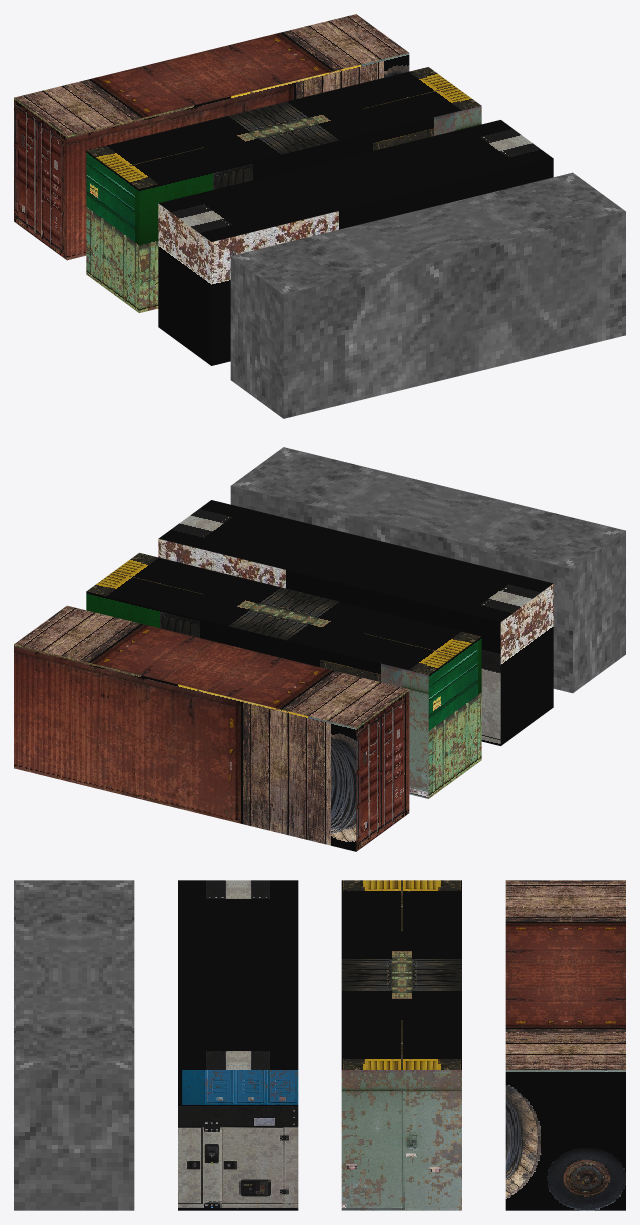
The picture shows the model from 3 angles, top to bottom: view 1: azimuth 30°, elevation 25°; view 2: azimuth 150°, elevation 25°; view 3: azimuth 270°, elevation 25°; orthographic projection. The views are drawn at different scales.
Visible parts, largest first — view 1: lowpoly other texture_0; view 2: lowpoly other texture_0; view 3: lowpoly other texture_0.
Part boxes in pixels (x1,y1,x2,y2): lowpoly other texture_0: (14,14,625,418); lowpoly other texture_0: (14,447,625,851); lowpoly other texture_0: (14,880,625,1210).
Bounding box in the file's own units: 13.69 × 4.74 × 18.67.
